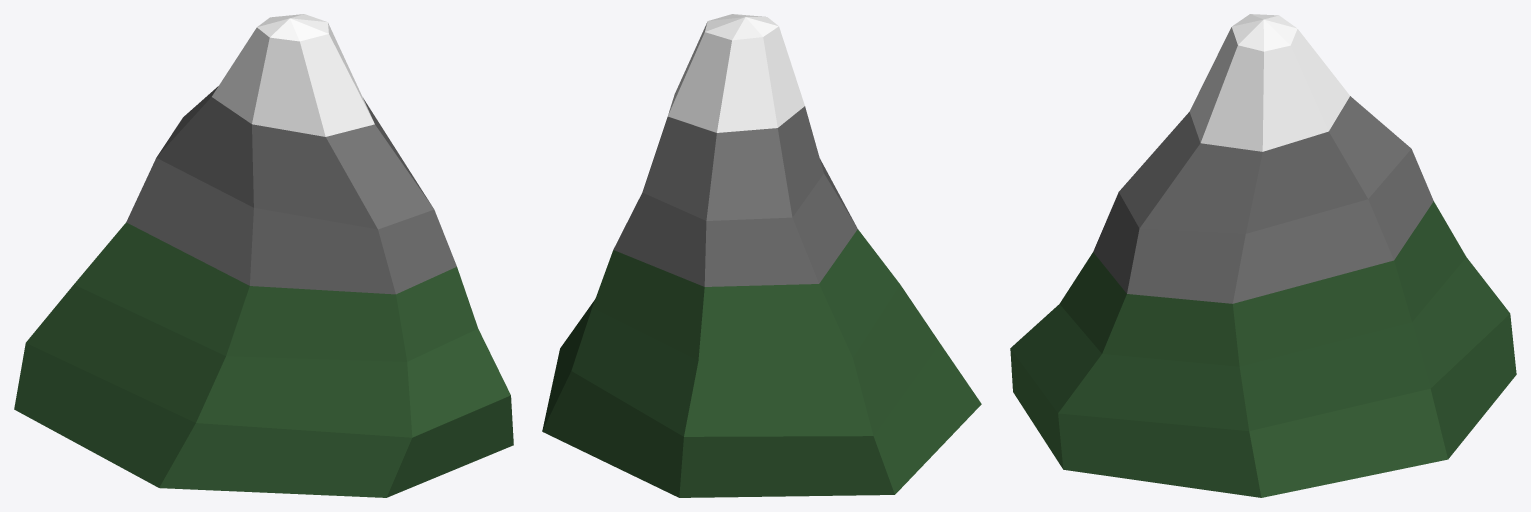
The model's file is mountain.fbx.
3 views of the same model, side by side, from view 1: azimuth 30°, elevation 25°; view 2: azimuth 150°, elevation 25°; view 3: azimuth 270°, elevation 25° (orthographic). The views are drawn at different scales.
Visible parts, largest first — view 1: pCone1; view 2: pCone1; view 3: pCone1.
Part boxes in pixels (box(x1,y1,x2,y2)): pCone1: box(14, 14, 513, 497); pCone1: box(542, 14, 981, 497); pCone1: box(1010, 14, 1516, 497).
Bounding box in the file's own units: 2001 × 1833 × 2160.
